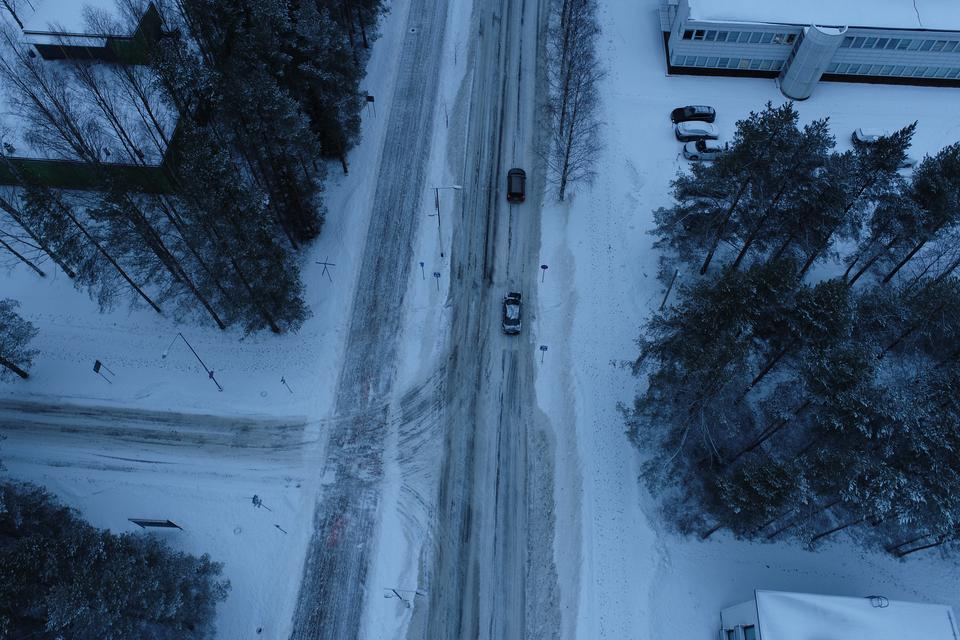intersection: (263, 371, 586, 554)
